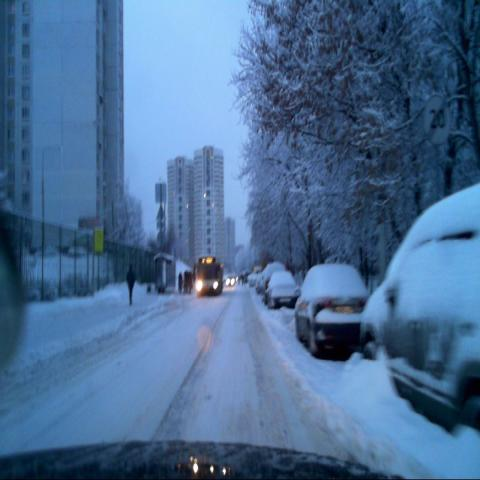3_25: (422, 94, 452, 148)
